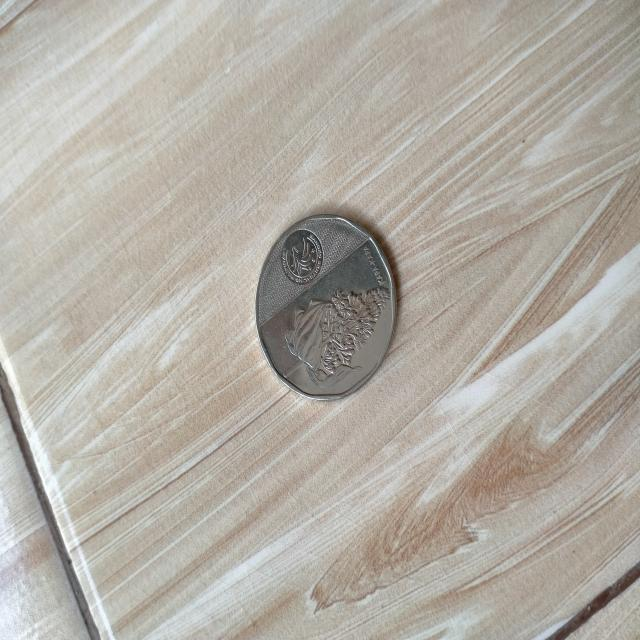10_New_Back: (277, 278, 393, 382)
